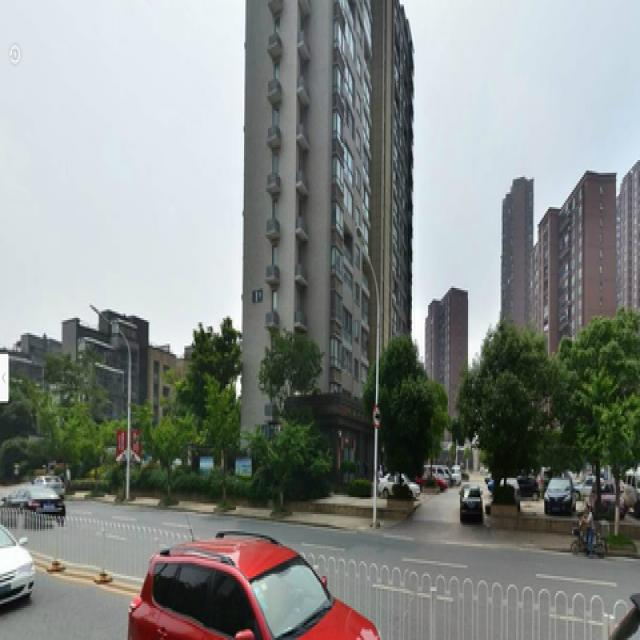cinn: (577, 316, 635, 531)
